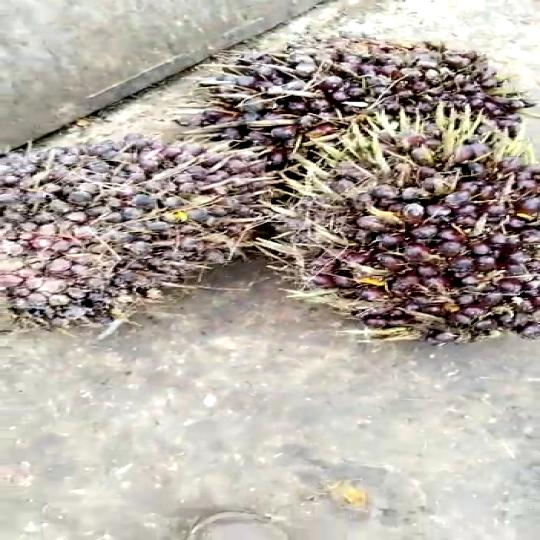kurang masak: (200, 21, 540, 338), (0, 110, 252, 349)
